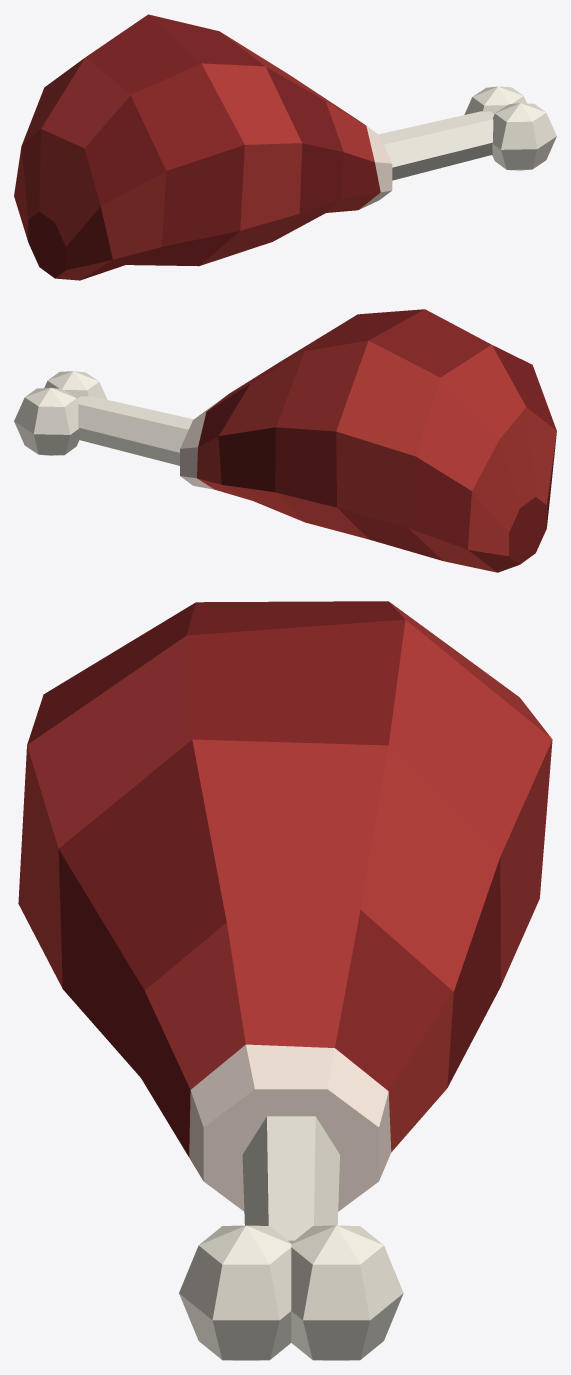
The model's file is it-meat.glb.
3 renders of one model, top to bottom at view 1: azimuth 30°, elevation 25°; view 2: azimuth 150°, elevation 25°; view 3: azimuth 270°, elevation 25°, orthographic. The views are drawn at different scales.
Visible parts, largest first — view 1: meat, bone_shaft, bone_knob_r, bone_knob_l; view 2: meat, bone_shaft, bone_knob_l, bone_knob_r; view 3: meat, bone_knob_r, bone_knob_l, bone_shaft.
Part boxes in pixels (box(x1,y1,x2,y2)): meat: box(14, 14, 392, 280); bone_shaft: box(379, 111, 494, 180); bone_knob_r: box(492, 103, 556, 170); bone_knob_l: box(464, 86, 526, 114); meat: box(180, 309, 556, 572); bone_shaft: box(77, 396, 193, 465); bone_knob_l: box(14, 387, 79, 455); bone_knob_r: box(44, 371, 107, 399); meat: box(18, 601, 552, 1211); bone_knob_r: box(179, 1225, 291, 1360); bone_knob_l: box(291, 1225, 403, 1360); bone_shaft: box(242, 1116, 339, 1243).
Size of what is drawn, in the model's own units: 0.2503 by 0.1016 by 0.1181.
